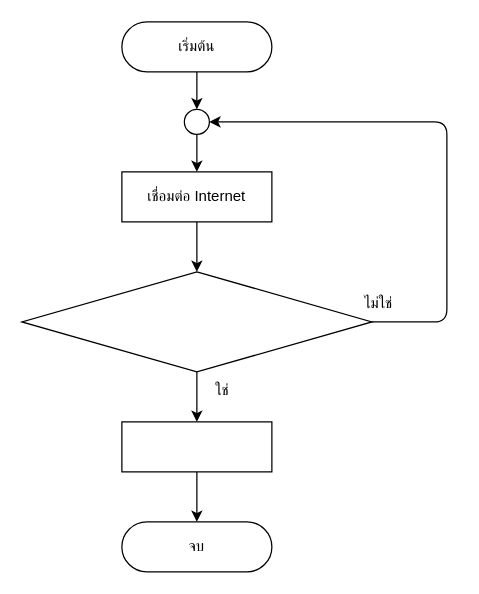
The diagram is 479 pixels wide and 594 high, and some of its shapes have lost their labels. Here are the shapes that lost their labels. From the top down, the box of each, then its label:
(21, 271, 372, 372): ตรวจสอบว่าสามารถเชื่อมต่อ Internet ได้
(121, 421, 272, 472): เชื่อมต่อ Blynk
